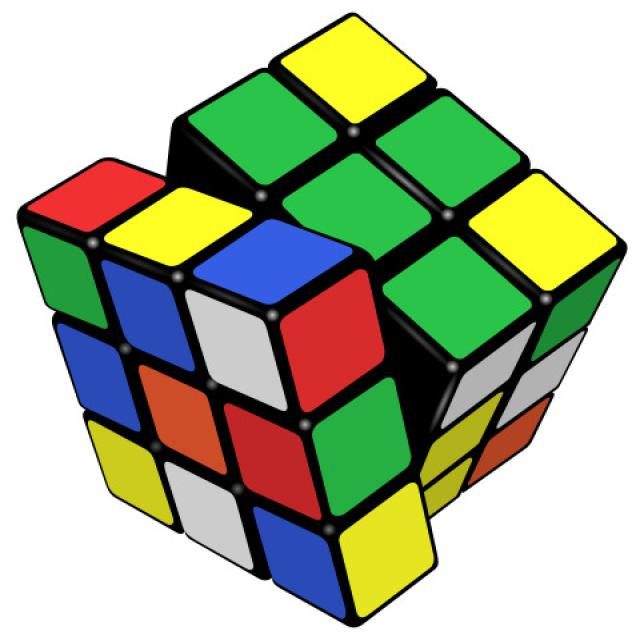Cubo-No-resuelto: (19, 14, 624, 625)
